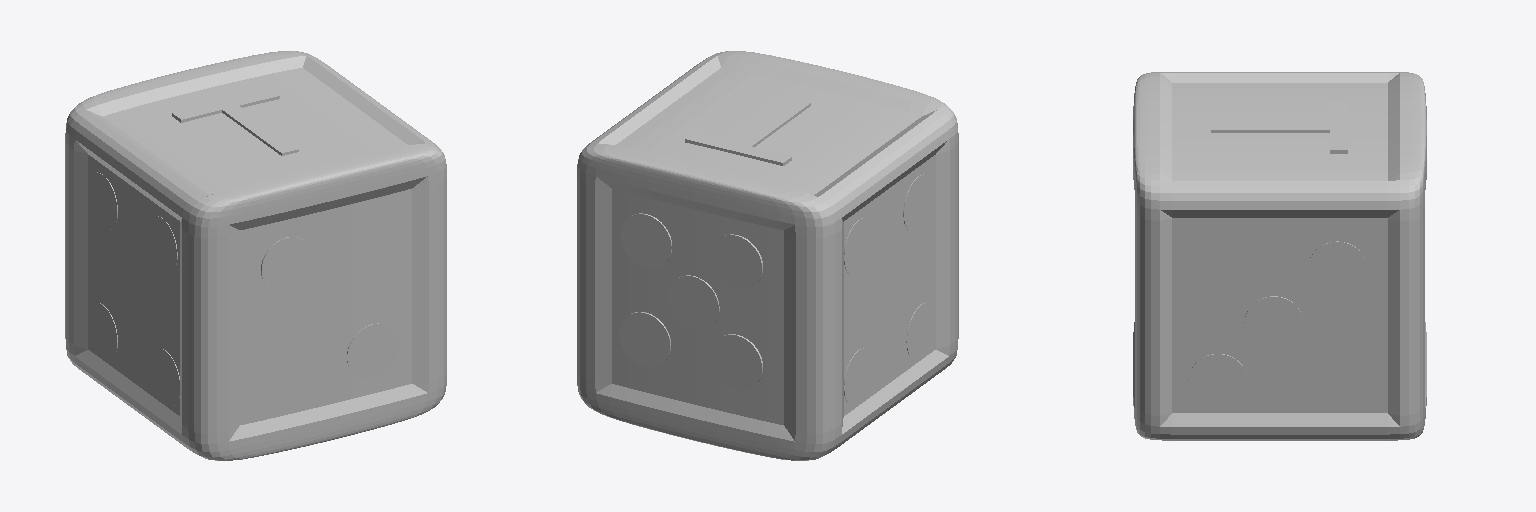
File: thayam.obj
3 renders of one model, left to right at view 1: azimuth 30°, elevation 25°; view 2: azimuth 150°, elevation 25°; view 3: azimuth 270°, elevation 25°, orthographic.
Parts seen in each view (by area): view 1: Cube_Cube.002, Text_Text.001, Circle.010_Circle.016, Circle.002_Circle.013, Circle.012_Circle.018, Circle.011_Circle.017, Circle.009_Circle.015, Circle.013_Circle.019; view 2: Cube_Cube.002, Text_Text.001, Circle.008_Circle.011, Circle.006_Circle.009, Circle.001_Circle.004, Circle.005_Circle.008, Circle.004_Circle.007, Circle.011_Circle.017, Circle.012_Circle.018, Circle.013_Circle.019, Circle.009_Circle.015; view 3: Cube_Cube.002, Circle.000_Circle.012, Circle.007_Circle.014, Circle.003_Circle.006, Text_Text.001.
Part boxes in pixels (left/top/right/bottom): Cube_Cube.002: left=65, top=51, right=446, bottom=460; Text_Text.001: left=172, top=89, right=298, bottom=155; Circle.010_Circle.016: left=261, top=237, right=312, bottom=291; Circle.002_Circle.013: left=347, top=323, right=397, bottom=378; Circle.012_Circle.018: left=88, top=303, right=117, bottom=360; Circle.011_Circle.017: left=88, top=172, right=117, bottom=229; Circle.009_Circle.015: left=148, top=216, right=177, bottom=273; Circle.013_Circle.019: left=151, top=349, right=179, bottom=405; Cube_Cube.002: left=577, top=51, right=958, bottom=460; Text_Text.001: left=685, top=99, right=810, bottom=165; Circle.008_Circle.011: left=711, top=334, right=762, bottom=389; Circle.006_Circle.009: left=711, top=234, right=762, bottom=289; Circle.001_Circle.004: left=619, top=312, right=670, bottom=366; Circle.005_Circle.008: left=620, top=213, right=671, bottom=268; Circle.004_Circle.007: left=668, top=275, right=719, bottom=330; Circle.011_Circle.017: left=844, top=218, right=873, bottom=275; Circle.012_Circle.018: left=844, top=348, right=873, bottom=405; Circle.013_Circle.019: left=906, top=302, right=936, bottom=359; Circle.009_Circle.015: left=903, top=174, right=933, bottom=231; Cube_Cube.002: left=1133, top=72, right=1426, bottom=440; Circle.000_Circle.012: left=1244, top=296, right=1303, bottom=349; Circle.007_Circle.014: left=1188, top=354, right=1247, bottom=407; Circle.003_Circle.006: left=1308, top=241, right=1366, bottom=295; Text_Text.001: left=1211, top=102, right=1347, bottom=153.
Size of the model in its own units: 1.32 by 1.32 by 1.32.